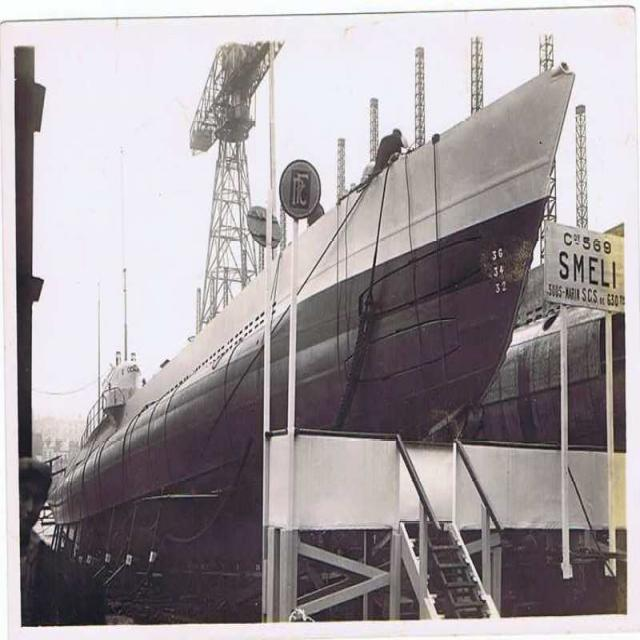submarine: (57, 63, 574, 541)
